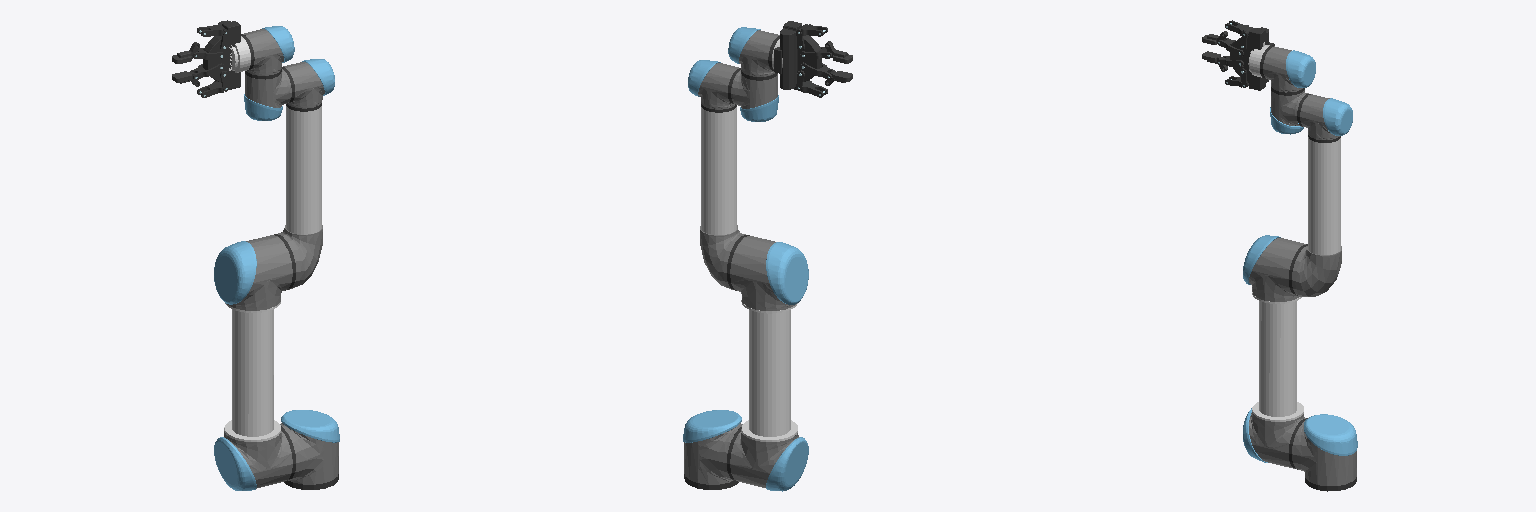
--- What the picture shows (computed from the rendered views, not written in the file) ---
The picture shows the robot from 3 angles, left to right: view 1: azimuth 30°, elevation 25°; view 2: azimuth 150°, elevation 25°; view 3: azimuth 330°, elevation 25°; orthographic projection.
Model robot_base_respondable with 17 links and 16 joints (10 revolute, 6 continuous), rooted at robot_base, posed every joint at zero.
Links seen in each view (by area): view 1: link_2_respondable_respondable_respondable_respondable_respondab, link_3_respondable_respondable_respondable_respondable_respondab, link_respondable_respondable_respondable_respondable_respondable, link_5_respondable_respondable_respondable_respondable_respondab, link_4_respondable_respondable_respondable_respondable_respondab, robotiq_base_respondable_respondable_respondable_respondable_res, link_6_respondable_respondable_respondable_respondable_respondab; view 2: link_2_respondable_respondable_respondable_respondable_respondab, link_3_respondable_respondable_respondable_respondable_respondab, link_respondable_respondable_respondable_respondable_respondable, link_5_respondable_respondable_respondable_respondable_respondab, link_4_respondable_respondable_respondable_respondable_respondab, robotiq_base_respondable_respondable_respondable_respondable_res; view 3: link_2_respondable_respondable_respondable_respondable_respondab, link_3_respondable_respondable_respondable_respondable_respondab, link_respondable_respondable_respondable_respondable_respondable, link_5_respondable_respondable_respondable_respondable_respondab, link_4_respondable_respondable_respondable_respondable_respondab, robotiq_base_respondable_respondable_respondable_respondable_res.
Link boxes in pixels (<box>): link_2_respondable_respondable_respondable_respondable_respondab: <box>214,234,295,490</box>; link_3_respondable_respondable_respondable_respondable_respondab: <box>278,59,334,289</box>; link_respondable_respondable_respondable_respondable_respondable: <box>280,410,339,484</box>; link_5_respondable_respondable_respondable_respondable_respondab: <box>241,26,294,79</box>; link_4_respondable_respondable_respondable_respondable_respondab: <box>244,67,294,120</box>; robotiq_base_respondable_respondable_respondable_respondable_res: <box>203,20,240,89</box>; link_6_respondable_respondable_respondable_respondable_respondab: <box>232,36,250,72</box>; link_2_respondable_respondable_respondable_respondable_respondab: <box>727,235,808,491</box>; link_3_respondable_respondable_respondable_respondable_respondab: <box>688,60,745,289</box>; link_respondable_respondable_respondable_respondable_respondable: <box>683,410,742,484</box>; link_5_respondable_respondable_respondable_respondable_respondab: <box>728,27,779,80</box>; link_4_respondable_respondable_respondable_respondable_respondab: <box>728,67,778,121</box>; robotiq_base_respondable_respondable_respondable_respondable_res: <box>774,21,821,89</box>; link_2_respondable_respondable_respondable_respondable_respondab: <box>1243,235,1307,468</box>; link_3_respondable_respondable_respondable_respondable_respondab: <box>1292,94,1352,296</box>; link_respondable_respondable_respondable_respondable_respondable: <box>1289,414,1357,485</box>; link_5_respondable_respondable_respondable_respondable_respondab: <box>1260,46,1315,95</box>; link_4_respondable_respondable_respondable_respondable_respondab: <box>1270,90,1310,134</box>; robotiq_base_respondable_respondable_respondable_respondable_res: <box>1230,27,1274,90</box>.
Bounding box of the posed robot: 0.3812 × 0.12 × 1.06 m (x, y, z).
41 mesh visuals loaded from 42 distinct referenced files (41 Collada DAE); not drawn: 1 (reference not matched to a file when rendering).

URDF robot description (robot_base_respondable):
<?xml version="1.0"?>
<robot name="robot_base_respondable">
    <link name="robot_base">
        <collision name="robot_base_respondable">
            <origin rpy="3.141592 3.141593 -2.552481" xyz="0.136748 0.000000 0.023150" />
            <geometry>
                <cylinder length="0.012300089001656" radius="0.056886240839958" />
            </geometry>
        </collision>
        <collision name="robot_base_respondable">
            <origin rpy="-3.141592 3.141593 1.747927" xyz="0.136748 0.000000 0.008500" />
            <geometry>
                <cylinder length="0.017000352963805" radius="0.072642646729946" />
            </geometry>
        </collision>
        <visual name="robot_base_visual">
            <origin rpy="3.141592 3.141593 3.141592" xyz="0.136748 0.000000 0.014650" />
            <geometry>
                <mesh filename="models/urdf/ur5_alpha_Z/ur5_alpha_Z_robot_base_visual_vis_1.dae" />
            </geometry>
            <material name="robot_base_visual_material">
                <color rgba="0.282353 0.282353 0.282353 1.0" />
            </material>
        </visual>
    </link>
    <joint name="joint" type="revolute">
        <axis xyz="0 0 1" />
        <limit velocity="1.5707963705063" effort="200.0" upper="6.2831854820251" lower="-6.2831854820251" />
        <parent link="robot_base" />
        <child link="link_respondable_respondable_respondable_respondable_respondable_respondable" />
        <origin rpy="3.141592 3.141593 3.141592" xyz="0.136748 0.000000 0.023150" />
    </joint>
    <link name="link_respondable_respondable_respondable_respondable_respondable_respondable">
        <inertial>
            <origin rpy="3.141592 3.141593 3.141592" xyz="-0.012312 0.000048 0.066405" />
            <inertia izz="0.09818059467752" iyz="-7.9251186174956e-05" iyy="0.10672965841326" ixz="0.0024490834762624" ixx="0.095492165355254" ixy="8.9516803607533e-05" />
            <mass value="2.5" />
        </inertial>
        <collision name="link_respondable_respondable_respondable_respondable_respondable_respondable">
            <origin rpy="3.141592 3.141593 3.141592" xyz="-0.007178 0.000095 0.070381" />
            <geometry>
                <mesh filename="models/urdf/ur5_alpha_Z/ur5_alpha_Z_link_respondable_respondable_respondable_respondable_respondable_respondable_coll_1.dae" />
            </geometry>
        </collision>
        <collision name="link_respondable_respondable_respondable_respondable_respondable_respondable">
            <origin rpy="3.141592 3.141593 3.141592" xyz="-0.007178 0.000095 0.070381" />
            <geometry>
                <mesh filename="models/urdf/ur5_alpha_Z/ur5_alpha_Z_link_respondable_respondable_respondable_respondable_respondable_respondable_coll_2.dae" />
            </geometry>
        </collision>
        <collision name="link_respondable_respondable_respondable_respondable_respondable_respondable">
            <origin rpy="3.141592 3.141593 3.141592" xyz="-0.007178 0.000095 0.070381" />
            <geometry>
                <mesh filename="models/urdf/ur5_alpha_Z/ur5_alpha_Z_link_respondable_respondable_respondable_respondable_respondable_respondable_coll_3.dae" />
            </geometry>
        </collision>
        <visual name="link_respondable_respondable_respondable_respondable_respondable_visual">
            <origin rpy="3.141592 3.141593 3.141592" xyz="-0.007150 0.000000 0.070335" />
            <geometry>
                <mesh filename="models/urdf/ur5_alpha_Z/ur5_alpha_Z_link_respondable_respondable_respondable_respondable_respondable_visual_vis_1.dae" />
            </geometry>
            <material name="link_respondable_respondable_respondable_respondable_respondable_visual_material">
                <color rgba="0.282353 0.282353 0.282353 1.0" />
            </material>
        </visual>
        <visual name="link_respondable_respondable_respondable_respondable_respondable_visual">
            <origin rpy="3.141592 3.141593 3.141592" xyz="-0.007150 0.000000 0.070335" />
            <geometry>
                <mesh filename="models/urdf/ur5_alpha_Z/ur5_alpha_Z_link_respondable_respondable_respondable_respondable_respondable_visual_vis_2.dae" />
            </geometry>
            <material name="link_respondable_respondable_respondable_respondable_respondable_visual_material">
                <color rgba="0.535294 0.535294 0.535294 1.0" />
            </material>
        </visual>
        <visual name="link_respondable_respondable_respondable_respondable_respondable_visual">
            <origin rpy="3.141592 3.141593 3.141592" xyz="-0.007150 0.000000 0.070335" />
            <geometry>
                <mesh filename="models/urdf/ur5_alpha_Z/ur5_alpha_Z_link_respondable_respondable_respondable_respondable_respondable_visual_vis_3.dae" />
            </geometry>
            <material name="link_respondable_respondable_respondable_respondable_respondable_visual_material">
                <color rgba="0.508235 0.761224 0.903529 1.0" />
            </material>
        </visual>
    </link>
    <joint name="joint_2" type="revolute">
        <axis xyz="0 0 1" />
        <limit velocity="1.5707963705063" effort="200.0" upper="6.2831854820251" lower="-6.2831854820251" />
        <parent link="link_respondable_respondable_respondable_respondable_respondable_respondable" />
        <child link="link_2_respondable_respondable_respondable_respondable_respondable_respondable" />
        <origin rpy="0.000001 -1.570796 0.000000" xyz="-0.070300 0.000000 0.066050" />
    </joint>
    <link name="link_2_respondable_respondable_respondable_respondable_respondable_respondable">
        <inertial>
            <origin rpy="-0.000000 1.570796 0.000000" xyz="0.215595 -0.000035 0.063573" />
            <inertia izz="0.067345368316432" iyz="-0.00017721757850982" iyy="0.63325135224174" ixz="-0.0052638063542259" ixx="0.62573305153059" ixy="9.2431180680848e-06" />
            <mass value="5.6999998092651" />
        </inertial>
        <collision name="link_2_respondable_respondable_respondable_respondable_respondable_respondable">
            <origin rpy="-0.000000 1.570796 0.000000" xyz="0.212550 -0.000115 0.064235" />
            <geometry>
                <mesh filename="models/urdf/ur5_alpha_Z/ur5_alpha_Z_link_2_respondable_respondable_respondable_respondable_respondable_respondable_coll_1.dae" />
            </geometry>
        </collision>
        <collision name="link_2_respondable_respondable_respondable_respondable_respondable_respondable">
            <origin rpy="-0.000000 1.570796 0.000000" xyz="0.212550 -0.000115 0.064235" />
            <geometry>
                <mesh filename="models/urdf/ur5_alpha_Z/ur5_alpha_Z_link_2_respondable_respondable_respondable_respondable_respondable_respondable_coll_2.dae" />
            </geometry>
        </collision>
        <collision name="link_2_respondable_respondable_respondable_respondable_respondable_respondable">
            <origin rpy="-0.000000 1.570796 0.000000" xyz="0.212550 -0.000115 0.064235" />
            <geometry>
                <mesh filename="models/urdf/ur5_alpha_Z/ur5_alpha_Z_link_2_respondable_respondable_respondable_respondable_respondable_respondable_coll_3.dae" />
            </geometry>
        </collision>
        <collision name="link_2_respondable_respondable_respondable_respondable_respondable_respondable">
            <origin rpy="-0.000000 1.570796 0.000000" xyz="0.212550 -0.000115 0.064235" />
            <geometry>
                <mesh filename="models/urdf/ur5_alpha_Z/ur5_alpha_Z_link_2_respondable_respondable_respondable_respondable_respondable_respondable_coll_4.dae" />
            </geometry>
        </collision>
        <collision name="link_2_respondable_respondable_respondable_respondable_respondable_respondable">
            <origin rpy="-0.000000 1.570796 0.000000" xyz="0.212550 -0.000115 0.064235" />
            <geometry>
                <mesh filename="models/urdf/ur5_alpha_Z/ur5_alpha_Z_link_2_respondable_respondable_respondable_respondable_respondable_respondable_coll_5.dae" />
            </geometry>
        </collision>
        <collision name="link_2_respondable_respondable_respondable_respondable_respondable_respondable">
            <origin rpy="-0.000000 1.570796 0.000000" xyz="0.212550 -0.000115 0.064235" />
            <geometry>
                <mesh filename="models/urdf/ur5_alpha_Z/ur5_alpha_Z_link_2_respondable_respondable_respondable_respondable_respondable_respondable_coll_6.dae" />
            </geometry>
        </collision>
        <collision name="link_2_respondable_respondable_respondable_respondable_respondable_respondable">
            <origin rpy="-0.000000 1.570796 0.000000" xyz="0.212550 -0.000115 0.064235" />
            <geometry>
                <mesh filename="models/urdf/ur5_alpha_Z/ur5_alpha_Z_link_2_respondable_respondable_respondable_respondable_respondable_respondable_coll_7.dae" />
            </geometry>
        </collision>
        <visual name="link_2_respondable_respondable_respondable_respondable_respondable_visual">
            <origin rpy="-0.000000 1.570796 0.000000" xyz="0.212550 0.000000 0.064217" />
            <geometry>
                <mesh filename="models/urdf/ur5_alpha_Z/ur5_alpha_Z_link_2_respondable_respondable_respondable_respondable_respondable_visual_vis_1.dae" />
            </geometry>
            <material name="link_2_respondable_respondable_respondable_respondable_respondable_visual_material">
                <color rgba="0.870588 0.870588 0.870588 1.0" />
            </material>
        </visual>
        <visual name="link_2_respondable_respondable_respondable_respondable_respondable_visual">
            <origin rpy="-0.000000 1.570796 0.000000" xyz="0.212550 0.000000 0.064217" />
            <geometry>
                <mesh filename="models/urdf/ur5_alpha_Z/ur5_alpha_Z_link_2_respondable_respondable_respondable_respondable_respondable_visual_vis_2.dae" />
            </geometry>
            <material name="link_2_respondable_respondable_respondable_respondable_respondable_visual_material">
                <color rgba="0.508235 0.761224 0.903529 1.0" />
            </material>
        </visual>
        <visual name="link_2_respondable_respondable_respondable_respondable_respondable_visual">
            <origin rpy="-0.000000 1.570796 0.000000" xyz="0.212550 0.000000 0.064217" />
            <geometry>
                <mesh filename="models/urdf/ur5_alpha_Z/ur5_alpha_Z_link_2_respondable_respondable_respondable_respondable_respondable_visual_vis_3.dae" />
            </geometry>
            <material name="link_2_respondable_respondable_respondable_respondable_respondable_visual_material">
                <color rgba="0.535294 0.535294 0.535294 1.0" />
            </material>
        </visual>
        <visual name="link_2_respondable_respondable_respondable_respondable_respondable_visual">
            <origin rpy="-0.000000 1.570796 0.000000" xyz="0.212550 0.000000 0.064217" />
            <geometry>
                <mesh filename="models/urdf/ur5_alpha_Z/ur5_alpha_Z_link_2_respondable_respondable_respondable_respondable_respondable_visual_vis_4.dae" />
            </geometry>
            <material name="link_2_respondable_respondable_respondable_respondable_respondable_visual_material">
                <color rgba="0.282353 0.282353 0.282353 1.0" />
            </material>
        </visual>
        <visual name="link_2_respondable_respondable_respondable_respondable_respondable_visual">
            <origin rpy="-0.000000 1.570796 0.000000" xyz="0.212550 0.000000 0.064217" />
            <geometry>
                <mesh filename="models/urdf/ur5_alpha_Z/ur5_alpha_Z_link_2_respondable_respondable_respondable_respondable_respondable_visual_vis_5.dae" />
            </geometry>
            <material name="link_2_respondable_respondable_respondable_respondable_respondable_visual_material">
                <color rgba="0.535294 0.535294 0.535294 1.0" />
            </material>
        </visual>
        <visual name="link_2_respondable_respondable_respondable_respondable_respondable_visual">
            <origin rpy="-0.000000 1.570796 0.000000" xyz="0.212550 0.000000 0.064217" />
            <geometry>
                <mesh filename="models/urdf/ur5_alpha_Z/ur5_alpha_Z_link_2_respondable_respondable_respondable_respondable_respondable_visual_vis_6.dae" />
            </geometry>
            <material name="link_2_respondable_respondable_respondable_respondable_respondable_visual_material">
                <color rgba="0.508235 0.761224 0.903529 1.0" />
            </material>
        </visual>
    </link>
    <joint name="joint_3" type="revolute">
        <axis xyz="0 0 1" />
        <limit velocity="1.5707963705063" effort="200.0" upper="6.2831854820251" lower="-6.2831854820251" />
        <parent link="link_2_respondable_respondable_respondable_respondable_respondable_respondable" />
        <child link="link_3_respondable_respondable_respondable_respondable_respondable_respondable" />
        <origin rpy="3.141593 3.141592 3.141592" xyz="0.425100 -0.000000 0.000000" />
    </joint>
    <link name="link_3_respondable_respondable_respondable_respondable_respondable_respondable">
        <inertial>
            <origin rpy="0.000000 1.570796 0.000000" xyz="0.192773 0.000015 -0.050153" />
            <inertia izz="0.035597955537677" iyz="-2.1029099787318e-05" iyy="0.46060709235019" ixz="-0.027670910392482" ixx="0.4592564485459" ixy="2.2187787147887e-06" />
            <mass value="3.9000000953674" />
        </inertial>
        <collision name="link_3_respondable_respondable_respondable_respondable_respondable_respondable">
            <origin rpy="0.000000 1.570796 0.000000" xyz="0.186773 0.000016 -0.057847" />
            <geometry>
                <mesh filename="models/urdf/ur5_alpha_Z/ur5_alpha_Z_link_3_respondable_respondable_respondable_respondable_respondable_respondable_coll_1.dae" />
            </geometry>
        </collision>
        <collision name="link_3_respondable_respondable_respondable_respondable_respondable_respondable">
            <origin rpy="0.000000 1.570796 0.000000" xyz="0.186773 0.000016 -0.057847" />
            <geometry>
                <mesh filename="models/urdf/ur5_alpha_Z/ur5_alpha_Z_link_3_respondable_respondable_respondable_respondable_respondable_respondable_coll_2.dae" />
            </geometry>
        </collision>
        <collision name="link_3_respondable_respondable_respondable_respondable_respondable_respondable">
            <origin rpy="0.000000 1.570796 0.000000" xyz="0.186773 0.000016 -0.057847" />
            <geometry>
                <mesh filename="models/urdf/ur5_alpha_Z/ur5_alpha_Z_link_3_respondable_respondable_respondable_respondable_respondable_respondable_coll_3.dae" />
            </geometry>
        </collision>
        <collision name="link_3_respondable_respondable_respondable_respondable_respondable_respondable">
            <origin rpy="0.000000 1.570796 0.000000" xyz="0.186773 0.000016 -0.057847" />
            <geometry>
                <mesh filename="models/urdf/ur5_alpha_Z/ur5_alpha_Z_link_3_respondable_respondable_respondable_respondable_respondable_respondable_coll_4.dae" />
            </geometry>
        </collision>
        <collision name="link_3_respondable_respondable_respondable_respondable_respondable_respondable">
            <origin rpy="0.000000 1.570796 0.000000" xyz="0.186773 0.000016 -0.057847" />
            <geometry>
                <mesh filename="models/urdf/ur5_alpha_Z/ur5_alpha_Z_link_3_respondable_respondable_respondable_respondable_respondable_respondable_coll_5.dae" />
            </geometry>
        </collision>
        <visual name="link_3_respondable_respondable_respondable_respondable_respondable_visual">
            <origin rpy="0.000000 1.570796 0.000000" xyz="0.186650 -0.000000 -0.057850" />
            <geometry>
                <mesh filename="models/urdf/ur5_alpha_Z/ur5_alpha_Z_link_3_respondable_respondable_respondable_respondable_respondable_visual_vis_1.dae" />
            </geometry>
            <material name="link_3_respondable_respondable_respondable_respondable_respondable_visual_material">
                <color rgba="0.870588 0.870588 0.870588 1.0" />
            </material>
        </visual>
        <visual name="link_3_respondable_respondable_respondable_respondable_respondable_visual">
            <origin rpy="0.000000 1.570796 0.000000" xyz="0.186650 -0.000000 -0.057850" />
            <geometry>
                <mesh filename="models/urdf/ur5_alpha_Z/ur5_alpha_Z_link_3_respondable_respondable_respondable_respondable_respondable_visual_vis_2.dae" />
            </geometry>
            <material name="link_3_respondable_respondable_respondable_respondable_respondable_visual_material">
                <color rgba="0.535294 0.535294 0.535294 1.0" />
            </material>
        </visual>
        <visual name="link_3_respondable_respondable_respondable_respondable_respondable_visual">
            <origin rpy="0.000000 1.570796 0.000000" xyz="0.186650 -0.000000 -0.057850" />
            <geometry>
                <mesh filename="models/urdf/ur5_alpha_Z/ur5_alpha_Z_link_3_respondable_respondable_respondable_respondable_respondable_visual_vis_3.dae" />
            </geometry>
            <material name="link_3_respondable_respondable_respondable_respondable_respondable_visual_material">
                <color rgba="0.508235 0.761224 0.903529 1.0" />
            </material>
        </visual>
        <visual name="link_3_respondable_respondable_respondable_respondable_respondable_visual">
            <origin rpy="0.000000 1.570796 0.000000" xyz="0.186650 -0.000000 -0.057850" />
            <geometry>
                <mesh filename="models/urdf/ur5_alpha_Z/ur5_alpha_Z_link_3_respondable_respondable_respondable_respondable_respondable_visual_vis_4.dae" />
            </geometry>
            <material name="link_3_respondable_respondable_respondable_respondable_respondable_visual_material">
                <color rgba="0.282353 0.282353 0.282353 1.0" />
            </material>
        </visual>
        <visual name="link_3_respondable_respondable_respondable_respondable_respondable_visual">
            <origin rpy="0.000000 1.570796 0.000000" xyz="0.186650 -0.000000 -0.057850" />
            <geometry>
                <mesh filename="models/urdf/ur5_alpha_Z/ur5_alpha_Z_link_3_respondable_respondable_respondable_respondable_respondable_visual_vis_5.dae" />
            </geometry>
            <material name="link_3_respondable_respondable_respondable_respondable_respondable_visual_material">
                <color rgba="0.535294 0.535294 0.535294 1.0" />
            </material>
        </visual>
    </link>
    <joint name="joint_4" type="revolute">
        <axis xyz="0 0 1" />
        <limit velocity="1.5707963705063" effort="200.0" upper="6.2831854820251" lower="-6.2831854820251" />
        <parent link="link_3_respondable_respondable_respondable_respondable_respondable_respondable" />
        <child link="link_4_respondable_respondable_respondable_respondable_respondable_respondable" />
        <origin rpy="3.141593 3.141592 3.141592" xyz="0.392150 -0.000000 0.000000" />
    </joint>
    <link name="link_4_respondable_respondable_respondable_respondable_respondable_respondable">
        <inertial>
            <origin rpy="0.000000 1.570796 0.000000" xyz="-0.005517 -0.000003 0.030943" />
            <inertia izz="0.087106483494915" iyz="-1.791527123899e-05" iyy="0.11466452218562" ixz="-0.0020900872562349" ixx="0.10017005794782" ixy="3.1976010243315e-06" />
            <mass value="2.5" />
        </inertial>
        <collision name="link_4_respondable_respondable_respondable_respondable_respondable_respondable">
            <origin rpy="0.000000 1.570796 0.000000" xyz="-0.007501 -0.000045 0.032830" />
            <geometry>
                <mesh filename="models/urdf/ur5_alpha_Z/ur5_alpha_Z_link_4_respondable_respondable_respondable_respondable_respondable_respondable_coll_1.dae" />
            </geometry>
        </collision>
        <collision name="link_4_respondable_respondable_respondable_respondable_respondable_respondable">
            <origin rpy="0.000000 1.570796 0.000000" xyz="-0.007501 -0.000045 0.032830" />
            <geometry>
                <mesh filename="models/urdf/ur5_alpha_Z/ur5_alpha_Z_link_4_respondable_respondable_respondable_respondable_respondable_respondable_coll_2.dae" />
            </geometry>
        </collision>
        <collision name="link_4_respondable_respondable_respondable_respondable_respondable_respondable">
            <origin rpy="0.000000 1.570796 0.000000" xyz="-0.007501 -0.000045 0.032830" />
            <geometry>
                <mesh filename="models/urdf/ur5_alpha_Z/ur5_alpha_Z_link_4_respondable_respondable_respondable_respondable_respondable_respondable_coll_3.dae" />
            </geometry>
        </collision>
        <visual name="link_4_respondable_respondable_respondable_respondable_respondable_visual">
            <origin rpy="0.000000 1.570796 0.000000" xyz="-0.007500 0.000000 0.032800" />
            <geometry>
                <mesh filename="models/urdf/ur5_alpha_Z/ur5_alpha_Z_link_4_respondable_respondable_respondable_respondable_respondable_visual_vis_1.dae" />
            </geometry>
            <material name="link_4_respondable_respondable_respondable_respondable_respondable_visual_material">
                <color rgba="0.282353 0.282353 0.282353 1.0" />
            </material>
        </visual>
        <visual name="link_4_respondable_respondable_respondable_respondable_respondable_visual">
            <origin rpy="0.000000 1.570796 0.000000" xyz="-0.007500 0.000000 0.032800" />
            <geometry>
                <mesh filename="models/urdf/ur5_alpha_Z/ur5_alpha_Z_link_4_respondable_respondable_respondable_respondable_respondable_visual_vis_2.dae" />
            </geometry>
            <material name="link_4_respondable_respondable_respondable_respondable_respondable_visual_material">
                <color rgba="0.535294 0.535294 0.535294 1.0" />
            </material>
        </visual>
        <visual name="link_4_respondable_respondable_respondable_respondable_respondable_visual">
            <origin rpy="0.000000 1.570796 0.000000" xyz="-0.007500 0.000000 0.032800" />
            <geometry>
                <mesh filename="models/urdf/ur5_alpha_Z/ur5_alpha_Z_link_4_respondable_respondable_respondable_respondable_respondable_visual_vis_3.dae" />
            </geometry>
            <material name="link_4_respondable_respondable_respondable_respondable_respondable_visual_material">
                <color rgba="0.508235 0.761224 0.903529 1.0" />
            </material>
        </visual>
    </link>
    <joint name="joint_5" type="revolute">
        <axis xyz="0 0 1" />
        <limit velocity="1.5707963705063" effort="200.0" upper="6.2831854820251" lower="-6.2831854820251" />
        <parent link="link_4_respondable_respondable_respondable_respondable_respondable_respondable" />
        <child link="link_5_respondable_respondable_respondable_respondable_respondable_respondable" />
        <origin rpy="2.596272 1.570799 2.596272" xyz="0.045575 -0.000000 0.039700" />
    </joint>
    <link name="link_5_respondable_respondable_respondable_respondable_respondable_respondable">
        <inertial>
            <origin rpy="3.141592 3.141593 3.141592" xyz="0.002100 0.000002 0.040669" />
            <inertia izz="0.1041509279002" iyz="3.8714712477568e-06" iyy="0.11739579576874" ixz="-0.00073245390311674" ixx="0.08179215416809" ixy="-1.5531769026879e-05" />
            <mass value="2.5" />
        </inertial>
        <collision name="link_5_respondable_respondable_respondable_respondable_respondable_respondable">
            <origin rpy="3.141592 3.141593 3.141592" xyz="0.003601 0.000045 0.042305" />
            <geometry>
                <mesh filename="models/urdf/ur5_alpha_Z/ur5_alpha_Z_link_5_respondable_respondable_respondable_respondable_respondable_respondable_coll_1.dae" />
            </geometry>
        </collision>
        <collision name="link_5_respondable_respondable_respondable_respondable_respondable_respondable">
            <origin rpy="3.141592 3.141593 3.141592" xyz="0.003601 0.000045 0.042305" />
            <geometry>
                <mesh filename="models/urdf/ur5_alpha_Z/ur5_alpha_Z_link_5_respondable_respondable_respondable_respondable_respondable_respondable_coll_2.dae" />
            </geometry>
        </collision>
        <collision name="link_5_respondable_respondable_respondable_respondable_respondable_respondable">
            <origin rpy="3.141592 3.141593 3.141592" xyz="0.003601 0.000045 0.042305" />
            <geometry>
                <mesh filename="models/urdf/ur5_alpha_Z/ur5_alpha_Z_link_5_respondable_respondable_respondable_respondable_respondable_respondable_coll_3.dae" />
            </geometry>
        </collision>
        <visual name="link_5_respondable_respondable_respondable_respondable_respondable_visual">
            <origin rpy="3.141592 3.141593 3.141592" xyz="0.003600 -0.000000 0.042275" />
            <geometry>
                <mesh filename="models/urdf/ur5_alpha_Z/ur5_alpha_Z_link_5_respondable_respondable_respondable_respondable_respondable_visual_vis_1.dae" />
            </geometry>
            <material name="link_5_respondable_respondable_respondable_respondable_respondable_visual_material">
                <color rgba="0.535294 0.535294 0.535294 1.0" />
            </material>
        </visual>
        <visual name="link_5_respondable_respondable_respondable_respondable_respondable_visual">
            <origin rpy="3.141592 3.141593 3.141592" xyz="0.003600 -0.000000 0.042275" />
            <geometry>
                <mesh filename="models/urdf/ur5_alpha_Z/ur5_alpha_Z_link_5_respondable_respondable_respondable_respondable_respondable_visual_vis_2.dae" />
            </geometry>
            <material name="link_5_respondable_respondable_respondable_respondable_respondable_visual_material">
                <color rgba="0.508235 0.761224 0.903529 1.0" />
            </material>
        </visual>
        <visual name="link_5_respondable_respondable_respondable_respondable_respondable_visual">
            <origin rpy="3.141592 3.141593 3.141592" xyz="0.003600 -0.000000 0.042275" />
            <geometry>
                <mesh filename="models/urdf/ur5_alpha_Z/ur5_alpha_Z_link_5_respondable_respondable_respondable_respondable_respondable_visual_vis_3.dae" />
            </geometry>
            <material name="link_5_respondable_respondable_respondable_respondable_respondable_visual_material">
                <color rgba="0.282353 0.282353 0.282353 1.0" />
            </material>
        </visual>
        <visual name="link_5_respondable_respondable_respondable_respondable_respondable_visual">
            <origin rpy="3.141592 3.141593 3.141592" xyz="0.003600 -0.000000 0.042275" />
            <geometry>
                <mesh filename="models/urdf/ur5_alpha_Z/ur5_alpha_Z_link_5_respondable_respondable_respondable_respondable_respondable_visual_vis_4.dae" />
            </geometry>
            <material name="link_5_respondable_respondable_respondable_respondable_respondable_visual_material">
                <color rgba="0.282353 0.282353 0.282353 1.0" />
            </material>
        </visual>
    </link>
    <joint name="joint_6" type="revolute">
        <axis xyz="0 0 1" />
        <limit velocity="1.5707963705063" effort="200.0" upper="6.2831854820251" lower="-6.2831854820251" />
        <parent link="link_5_respondable_respondable_respondable_respondable_respondable_respondable" />
        <child link="link_6_respondable_respondable_respondable_respondable_respondable_respondable" />
        <origin rpy="-3.141592 4.712385 -3.141592" xyz="0.014425 -0.000000 0.049175" />
    </joint>
    <link name="link_6_respondable_respondable_respondable_respondable_respondable_respondable">
        <inertial>
            <origin rpy="-3.141593 3.141593 3.141592" xyz="0.000000 0.000000 0.076675" />
            <inertia izz="0.010054638677955" iyz="2.0432933875776e-25" iyy="0.0058406852103875" ixz="-2.0432933882088e-25" ixx="0.0058406852103875" ixy="-5.1232196104835e-48" />
            <mass value="0.69999998807907" />
        </inertial>
        <collision name="link_6_respondable_respondable_respondable_respondable_respondable_respondable">
            <origin rpy="-3.141593 3.141593 3.141592" xyz="0.000000 0.000000 0.076675" />
            <geometry>
                <cylinder length="0.025500684976578" radius="0.036602452397346" />
            </geometry>
        </collision>
        <visual name="link_6_respondable_respondable_respondable_respondable_respondable_visual">
            <origin rpy="0.000001 1.570796 0.000000" xyz="0.003860 -0.000000 0.080425" />
            <geometry>
                <mesh filename="models/urdf/ur5_alpha_Z/ur5_alpha_Z_link_6_respondable_respondable_respondable_respondable_respondable_visual_vis_1.dae" />
            </geometry>
            <material name="link_6_respondable_respondable_respondable_respondable_respondable_visual_material">
                <color rgba="0.870588 0.870588 0.870588 1.0" />
            </material>
        </visual>
    </link>
    <joint name="joint_6_2" type="revolute">
        <axis xyz="0 0 1" />
        <limit velocity="1.5707963705063" effort="200.0" upper="6.2831854820251" lower="-6.2831854820251" />
        <parent link="link_6_respondable_respondable_respondable_respondable_respondable_respondable" />
        <child link="robotiq_base_respondable_respondable_respondable_respondable_respondable_respondable" />
        <origin rpy="1.569831 4.712382 -1.569831" xyz="0.014425 0.000000 0.049175" />
    </joint>
    <link name="robotiq_base_respondable_respondable_respondable_respondable_respondable_respondable">
        <inertial>
            <origin rpy="1.570796 3.141592 -3.141591" xyz="0.043899 0.008350 0.012000" />
            <inertia izz="0.00072521695233332" iyz="-2.9619775595086e-11" iyy="0.00024588701243668" ixz="3.003181387601e-05" ixx="0.00070222511049253" ixy="-3.0779821975945e-10" />
            <mass value="0.5" />
        </inertial>
        <collision name="robotiq_base_respondable_respondable_respondable_respondable_respondable_respondable">
            <origin rpy="1.570796 3.141592 -3.141591" xyz="0.030000 0.010000 0.012000" />
            <geometry>
                <box size="0.017463 0.050800 0.057938" />
            </geometry>
        </collision>
        <collision name="robotiq_base_respondable_respondable_respondable_respondable_respondable_respondable">
            <origin rpy="3.141592 3.141592 -3.141591" xyz="0.083032 -0.004681 0.012000" />
            <geometry>
                <box size="0.040000 0.020600 0.040000" />
            </geometry>
        </collision>
        <collision name="robotiq_base_respondable_respondable_respondable_respondable_respondable_respondable">
            <origin rpy="-0.000001 3.141592 -3.141591" xyz="0.041272 0.009924 0.012000" />
            <geometry>
                <box size="0.030480 0.051435 0.139700" />
            </geometry>
        </collision>
        <visual name="robotiq_base_respondable_respondable_respondable_respondable_respondable_visual">
            <origin rpy="-0.000010 1.570796 0.000000" xyz="0.062151 0.010000 0.012000" />
            <geometry>
                <mesh filename="models/urdf/ur5_alpha_Z/ur5_alpha_Z_robotiq_base_respondable_respondable_respondable_respondable_respondable_visual_vis_1.dae" />
            </geometry>
            <material name="robotiq_base_respondable_respondable_respondable_respondable_respondable_visual_material">
                <color rgba="0.282317 0.282389 0.282389 1.0" />
            </material>
        </visual>
        <visual name="robotiq_base_respondable_respondable_respondable_respondable_respondable_visual">
            <origin rpy="-0.000010 1.570796 0.000000" xyz="0.062151 0.010000 0.012000" />
            <geometry>
                <mesh filename="models/urdf/ur5_alpha_Z/ur5_alpha_Z_robotiq_base_respondable_respondable_respondable_respondable_respondable_visual_vis_2.dae" />
            </geometry>
            <material name="robotiq_base_respondable_respondable_respondable_respondable_respondable_visual_material">
                <color rgba="1.000000 1.000000 1.000000 1.0" />
            </material>
        </visual>
    </link>
    <joint name="joint_6_3" type="revolute">
        <axis xyz="0 0 1" />
        <limit velocity="1.5707963705063" effort="200.0" upper="6.2831854820251" lower="-6.2831854820251" />
        <parent link="robotiq_base_respondable_respondable_respondable_respondable_respondable_respondable" />
        <child link="alpha_Z_respondable" />
        <origin rpy="1.570754 3.141589 -1.570804" xyz="0.030000 0.010000 0.012000" />
    </joint>
    <link name="alpha_Z_respondable">
        <collision name="alpha_Z_respondable">
            <origin xyz="0.004959 0.003214 -0.197721" rpy="1.570834 3.141593 3.141588" />
            <geometry>
                <mesh filename="models/urdf/ur5_alpha_Z/ur5_alpha_Z_alpha_Z_respondable_coll_1.dae" />
            </geometry>
        </collision>
        <visual name="alpha_Z_visual">
            <origin xyz="0.004959 0.003214 -0.197721" rpy="1.570834 3.141593 3.141588" />
            <geometry>
                <mesh filename="models/urdf/ur5_alpha_Z/ur5_alpha_Z_alpha_Z_visual_vis_1.dae" />
            </geometry>
            <material name="alpha_Z_visual_material">
                <color rgba="0.600000 0.600000 0.600000 1.0" />
            </material>
        </visual>
    </link>
    <joint name="Rjoint1" type="revolute">
        <axis xyz="0 0 1" />
        <limit velocity="0.69813168048859" effort="1.0" upper="0.78539818525314" lower="0.0" />
        <parent link="robotiq_base_respondable_respondable_respondable_respondable_respondable_respondable" />
        <child link="Rfinger_respondable_respondable_respondable_respondable_respondable_respondable" />
        <origin rpy="-1.365597 1.570798 -2.936391" xyz="0.074600 -0.004681 -0.000738" />
    </joint>
    <link name="Rfinger_respondable_respondable_respondable_respondable_respondable_respondable">
        <inertial>
            <origin rpy="1.570973 3.138398 -0.197315" xyz="0.005488 0.027095 -0.000010" />
            <inertia izz="7.6569405819033e-06" iyz="2.6073848673186e-20" iyy="2.9984947551464e-05" ixz="2.1062598132683e-20" ixx="3.4844272621657e-05" ixy="2.8300690834922e-21" />
            <mass value="0.10000000149012" />
        </inertial>
        <collision name="Rfinger_respondable_respondable_respondable_respondable_respondable_respondable">
            <origin rpy="1.570973 3.138398 -0.197315" xyz="0.005488 0.027095 -0.000010" />
            <geometry>
                <box size="0.015803 0.033427 0.071444" />
            </geometry>
        </collision>
        <visual name="Rfinger_respondable_respondable_respondable_respondable_respondable_visual">
            <origin rpy="1.570973 3.138398 -0.197315" xyz="0.005488 0.027095 -0.000010" />
            <geometry>
                <mesh filename="models/urdf/ur5_alpha_Z/ur5_alpha_Z_Rfinger_respondable_respondable_respondable_respondable_respondable_visual_vis_1.dae" />
            </geometry>
            <material name="Rfinger_respondable_respondable_respondable_respondable_respondable_visual_material">
                <color rgba="0.282317 0.282389 0.282389 1.0" />
            </material>
        </visual>
        <visual name="Rfinger_respondable_respondable_respondable_respondable_respondable_visual">
            <origin rpy="1.570973 3.138398 -0.197315" xyz="0.005488 0.027095 -0.000010" />
            <geometry>
                <mesh filename="models/urdf/ur5_alpha_Z/ur5_alpha_Z_Rfinger_respondable_respondable_respondable_respondable_respondable_visual_vis_2.dae" />
            </geometry>
            <material name="Rfinger_respondable_respondable_respondable_respondable_respondable_visual_material">
                <color rgba="0.837524 0.970755 1.000000 1.0" />
            </material>
        </visual>
    </link>
    <joint name="Rjoint2" type="continuous">
        <axis xyz="0 0 1" />
        <parent link="Rfinger_respondable_respondable_respondable_respondable_respondable_respondable" />
        <child link="RfingerTip_respondable_respondable_respondable_respondable_respondable_respondable" />
        <origin rpy="3.141588 3.141599 -2.617992" xyz="0.011178 0.055908 -0.000005" />
    </joint>
    <link name="RfingerTip_respondable_respondable_respondable_respondable_respondable_respondable">
        <inertial>
            <origin rpy="1.570807 3.141584 2.617863" xyz="0.011427 0.016336 0.000003" />
            <inertia izz="1.0653877098426e-05" iyz="3.040203109114e-09" iyy="3.3094096464058e-05" ixz="9.351945982435e-06" ixx="3.0898972527854e-05" ixy="-1.5997928581758e-09" />
            <mass value="0.10000000149012" />
        </inertial>
        <collision name="RfingerTip_respondable_respondable_respondable_respondable_respondable_respondable">
            <origin rpy="1.570807 3.141584 2.617863" xyz="0.011082 0.025433 0.000005" />
            <geometry>
                <box size="0.009509 0.025404 0.036832" />
            </geometry>
        </collision>
        <collision name="RfingerTip_respondable_respondable_respondable_respondable_respondable_respondable">
            <origin rpy="-1.570950 3.141603 -0.523730" xyz="0.014106 0.016939 0.000003" />
            <geometry>
                <box size="0.008509 0.014223 0.025144" />
            </geometry>
        </collision>
        <collision name="RfingerTip_respondable_respondable_respondable_respondable_respondable_respondable">
            <origin rpy="2.669909 1.571059 -1.519009" xyz="0.009791 -0.010308 -0.000000" />
            <geometry>
                <box size="0.011078 0.012672 0.022135" />
            </geometry>
        </collision>
        <visual name="RfingerTip_respondable_respondable_respondable_respondable_respondable_visual">
            <origin rpy="1.570938 3.141584 2.617889" xyz="0.015278 0.010303 0.000004" />
            <geometry>
                <mesh filename="models/urdf/ur5_alpha_Z/ur5_alpha_Z_RfingerTip_respondable_respondable_respondable_respondable_respondable_visual_vis_1.dae" />
            </geometry>
            <material name="RfingerTip_respondable_respondable_respondable_respondable_respondable_visual_material">
                <color rgba="0.282317 0.282389 0.282389 1.0" />
            </material>
        </visual>
        <visual name="RfingerTip_respondable_respondable_respondable_respondable_respondable_visual">
            <origin rpy="1.570938 3.141584 2.617889" xyz="0.015278 0.010303 0.000004" />
            <geometry>
                <mesh filename="models/urdf/ur5_alpha_Z/ur5_alpha_Z_RfingerTip_respondable_respondable_respondable_respondable_respondable_visual_vis_2.dae" />
            </geometry>
            <material name="RfingerTip_respondable_respondable_respondable_respondable_respondable_visual_material">
                <color rgba="0.305882 0.305882 0.305882 1.0" />
            </material>
        </visual>
    </link>
    <joint name="RactiveJoint" type="continuous">
        <axis xyz="0 0 1" />
        <parent link="robotiq_base_respondable_respondable_respondable_respondable_respondable_respondable" />
        <child link="RauxLink1Visible_visual_visual_visual_visual_visual_visual" />
        <origin rpy="-1.365597 1.570798 -2.936391" xyz="0.067942 -0.004681 -0.018601" />
    </joint>
    <link name="RauxLink1Visible_visual_visual_visual_visual_visual_visual">
        <visual name="RauxLink1Visible_visual_visual_visual_visual_visual_visual">
            <origin rpy="-1.570931 3.141677 -1.674482" xyz="0.014963 -0.001623 0.000001" />
            <geometry>
                <mesh filename="models/urdf/ur5_alpha_Z/ur5_alpha_Z_RauxLink1Visible_visual_visual_visual_visual_visual_visual_vis_1.dae" />
            </geometry>
            <material name="RauxLink1Visible_visual_visual_visual_visual_visual_visual_material">
                <color rgba="0.282317 0.282389 0.282389 1.0" />
            </material>
        </visual>
        <visual name="RauxLink1Visible_visual_visual_visual_visual_visual_visual">
            <origin rpy="-1.570931 3.141677 -1.674482" xyz="0.014963 -0.001623 0.000001" />
            <geometry>
                <mesh filename="models/urdf/ur5_alpha_Z/ur5_alpha_Z_RauxLink1Visible_visual_visual_visual_visual_visual_visual_vis_2.dae" />
            </geometry>
            <material name="RauxLink1Visible_visual_visual_visual_visual_visual_visual_material">
                <color rgba="0.837524 0.970755 1.000000 1.0" />
            </material>
        </visual>
    </link>
    <joint name="RauxJoint2" type="continuous">
        <axis xyz="0 0 1" />
        <parent link="RauxLink1Visible_visual_visual_visual_visual_visual_visual" />
        <child link="RauxLink2Visible_visual_visual_visual_visual_visual_visual" />
        <origin rpy="-3.141592 3.141593 -3.141592" xyz="0.031465 -0.004244 0.000000" />
    </joint>
    <link name="RauxLink2Visible_visual_visual_visual_visual_visual_visual">
        <visual name="RauxLink2Visible_visual_visual_visual_visual_visual_visual">
            <origin rpy="-1.570795 3.141585 -0.130688" xyz="0.003104 0.023609 0.000000" />
            <geometry>
                <mesh filename="models/urdf/ur5_alpha_Z/ur5_alpha_Z_RauxLink2Visible_visual_visual_visual_visual_visual_visual_vis_1.dae" />
            </geometry>
            <material name="RauxLink2Visible_visual_visual_visual_visual_visual_visual_material">
                <color rgba="0.282317 0.282389 0.282389 1.0" />
            </material>
        </visual>
        <visual name="RauxLink2Visible_visual_visual_visual_visual_visual_visual">
            <origin rpy="-1.570795 3.141585 -0.130688" xyz="0.003104 0.023609 0.000000" />
            <geometry>
                <mesh filename="models/urdf/ur5_alpha_Z/ur5_alpha_Z_RauxLink2Visible_visual_visual_visual_visual_visual_visual_vis_2.dae" />
            </geometry>
            <material name="RauxLink2Visible_visual_visual_visual_visual_visual_visual_material">
                <color rgba="0.837524 0.970755 1.000000 1.0" />
            </material>
        </visual>
    </link>
    <joint name="Ljoint1" type="revolute">
        <axis xyz="0 0 1" />
        <limit velocity="0.69813168048859" effort="1.0" upper="0.78539818525314" lower="0.0" />
        <parent link="robotiq_base_respondable_respondable_respondable_respondable_respondable_respondable" />
        <child link="Lfinger_respondable_respondable_respondable_respondable_respondable_respondable" />
        <origin rpy="-1.570793 -1.570796 0.000000" xyz="0.074600 -0.004681 0.024736" />
    </joint>
    <link name="Lfinger_respondable_respondable_respondable_respondable_respondable_respondable">
        <inertial>
            <origin rpy="1.570973 3.138400 -0.197320" xyz="0.005488 0.027096 -0.000000" />
            <inertia izz="7.6569405819033e-06" iyz="3.1849061849001e-20" iyy="2.9984947551464e-05" ixz="1.4177316404393e-20" ixx="3.4844272621657e-05" ixy="5.9165832030089e-21" />
            <mass value="0.10000000149012" />
        </inertial>
        <collision name="Lfinger_respondable_respondable_respondable_respondable_respondable_respondable">
            <origin rpy="1.570973 3.138400 -0.197320" xyz="0.005488 0.027096 -0.000000" />
            <geometry>
                <box size="0.015803 0.033427 0.071444" />
            </geometry>
        </collision>
        <visual name="Lfinger_respondable_respondable_respondable_respondable_respondable_visual">
            <origin rpy="1.570973 3.138400 -0.197320" xyz="0.005488 0.027096 -0.000000" />
            <geometry>
                <mesh filename="models/urdf/ur5_alpha_Z/ur5_alpha_Z_Lfinger_respondable_respondable_respondable_respondable_respondable_visual_vis_1.dae" />
            </geometry>
            <material name="Lfinger_respondable_respondable_respondable_respondable_respondable_visual_material">
                <color rgba="0.282317 0.282389 0.282389 1.0" />
            </material>
        </visual>
        <visual name="Lfinger_respondable_respondable_respondable_respondable_respondable_visual">
            <origin rpy="1.570973 3.138400 -0.197320" xyz="0.005488 0.027096 -0.000000" />
            <geometry>
                <mesh filename="models/urdf/ur5_alpha_Z/ur5_alpha_Z_Lfinger_respondable_respondable_respondable_respondable_respondable_visual_vis_2.dae" />
            </geometry>
            <material name="Lfinger_respondable_respondable_respondable_respondable_respondable_visual_material">
                <color rgba="0.837524 0.970755 1.000000 1.0" />
            </material>
        </visual>
    </link>
    <joint name="Ljoint2" type="continuous">
        <axis xyz="0 0 1" />
        <parent link="Lfinger_respondable_respondable_respondable_respondable_respondable_respondable" />
        <child link="LfingerTip_respondable_respondable_respondable_respondable_respondable_respondable" />
        <origin rpy="3.141589 3.141598 -2.617995" xyz="0.011178 0.055909 0.000005" />
    </joint>
    <link name="LfingerTip_respondable_respondable_respondable_respondable_respondable_respondable">
        <inertial>
            <origin rpy="1.570786 3.141585 2.618120" xyz="0.011428 0.016336 -0.000007" />
            <inertia izz="1.0653864139997e-05" iyz="3.0402050629753e-09" iyy="3.3094096464058e-05" ixz="9.3519319562104e-06" ixx="3.0898985486283e-05" ixy="-1.599790949334e-09" />
            <mass value="0.10000000149012" />
        </inertial>
        <collision name="LfingerTip_respondable_respondable_respondable_respondable_respondable_respondable">
            <origin rpy="1.570786 3.141585 2.618120" xyz="0.011081 0.025434 -0.000005" />
            <geometry>
                <box size="0.009509 0.025404 0.036832" />
            </geometry>
        </collision>
        <collision name="LfingerTip_respondable_respondable_respondable_respondable_respondable_respondable">
            <origin rpy="-1.570929 3.141602 -0.523473" xyz="0.014107 0.016941 -0.000006" />
            <geometry>
                <box size="0.008509 0.014223 0.025144" />
            </geometry>
        </collision>
        <collision name="LfingerTip_respondable_respondable_respondable_respondable_respondable_respondable">
            <origin rpy="2.711576 1.571041 -1.477086" xyz="0.009799 -0.010306 -0.000009" />
            <geometry>
                <box size="0.011078 0.012672 0.022135" />
            </geometry>
        </collision>
        <visual name="LfingerTip_respondable_respondable_respondable_respondable_respondable_visual">
            <origin rpy="1.570917 3.141585 2.618145" xyz="0.015281 0.010303 -0.000006" />
            <geometry>
                <mesh filename="models/urdf/ur5_alpha_Z/ur5_alpha_Z_LfingerTip_respondable_respondable_respondable_respondable_respondable_visual_vis_1.dae" />
            </geometry>
            <material name="LfingerTip_respondable_respondable_respondable_respondable_respondable_visual_material">
                <color rgba="0.282317 0.282389 0.282389 1.0" />
            </material>
        </visual>
        <visual name="LfingerTip_respondable_respondable_respondable_respondable_respondable_visual">
            <origin rpy="1.570917 3.141585 2.618145" xyz="0.015281 0.010303 -0.000006" />
            <geometry>
                <mesh filename="models/urdf/ur5_alpha_Z/ur5_alpha_Z_LfingerTip_respondable_respondable_respondable_respondable_respondable_visual_vis_2.dae" />
            </geometry>
            <material name="LfingerTip_respondable_respondable_respondable_respondable_respondable_visual_material">
                <color rgba="0.305882 0.305882 0.305882 1.0" />
            </material>
        </visual>
    </link>
    <joint name="LactiveJoint" type="continuous">
        <axis xyz="0 0 1" />
        <parent link="robotiq_base_respondable_respondable_respondable_respondable_respondable_respondable" />
        <child link="LauxLink1Visible_visual_visual_visual_visual_visual_visual" />
        <origin rpy="-1.570793 -1.570796 0.000000" xyz="0.067942 -0.004681 0.042599" />
    </joint>
    <link name="LauxLink1Visible_visual_visual_visual_visual_visual_visual">
        <visual name="LauxLink1Visible_visual_visual_visual_visual_visual_visual">
            <origin rpy="-1.570931 3.141677 -1.674482" xyz="0.014963 -0.001623 0.000001" />
            <geometry>
                <mesh filename="models/urdf/ur5_alpha_Z/ur5_alpha_Z_LauxLink1Visible_visual_visual_visual_visual_visual_visual_vis_1.dae" />
            </geometry>
            <material name="LauxLink1Visible_visual_visual_visual_visual_visual_visual_material">
                <color rgba="0.282317 0.282389 0.282389 1.0" />
            </material>
        </visual>
        <visual name="LauxLink1Visible_visual_visual_visual_visual_visual_visual">
            <origin rpy="-1.570931 3.141677 -1.674482" xyz="0.014963 -0.001623 0.000001" />
            <geometry>
                <mesh filename="models/urdf/ur5_alpha_Z/ur5_alpha_Z_LauxLink1Visible_visual_visual_visual_visual_visual_visual_vis_2.dae" />
            </geometry>
            <material name="LauxLink1Visible_visual_visual_visual_visual_visual_visual_material">
                <color rgba="0.837524 0.970755 1.000000 1.0" />
            </material>
        </visual>
    </link>
    <joint name="LauxJoint2" type="continuous">
        <axis xyz="0 0 1" />
        <parent link="LauxLink1Visible_visual_visual_visual_visual_visual_visual" />
        <child link="LauxLink2Visible_visual_visual_visual_visual_visual_visual" />
        <origin rpy="3.141592 3.141593 -3.141592" xyz="0.031465 -0.004244 -0.000000" />
    </joint>
    <link name="LauxLink2Visible_visual_visual_visual_visual_visual_visual">
        <visual name="LauxLink2Visible_visual_visual_visual_visual_visual_visual">
            <origin rpy="-1.570795 3.141585 -0.130688" xyz="0.003104 0.023609 -0.000000" />
            <geometry>
                <mesh filename="models/urdf/ur5_alpha_Z/ur5_alpha_Z_LauxLink2Visible_visual_visual_visual_visual_visual_visual_vis_1.dae" />
            </geometry>
            <material name="LauxLink2Visible_visual_visual_visual_visual_visual_visual_material">
                <color rgba="0.282317 0.282389 0.282389 1.0" />
            </material>
        </visual>
        <visual name="LauxLink2Visible_visual_visual_visual_visual_visual_visual">
            <origin rpy="-1.570795 3.141585 -0.130688" xyz="0.003104 0.023609 -0.000000" />
            <geometry>
                <mesh filename="models/urdf/ur5_alpha_Z/ur5_alpha_Z_LauxLink2Visible_visual_visual_visual_visual_visual_visual_vis_2.dae" />
            </geometry>
            <material name="LauxLink2Visible_visual_visual_visual_visual_visual_visual_material">
                <color rgba="0.837524 0.970755 1.000000 1.0" />
            </material>
        </visual>
    </link>
</robot>
